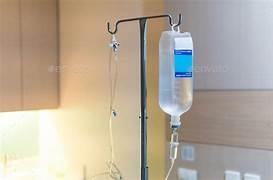Iv_Bottle: (159, 30, 192, 128)
